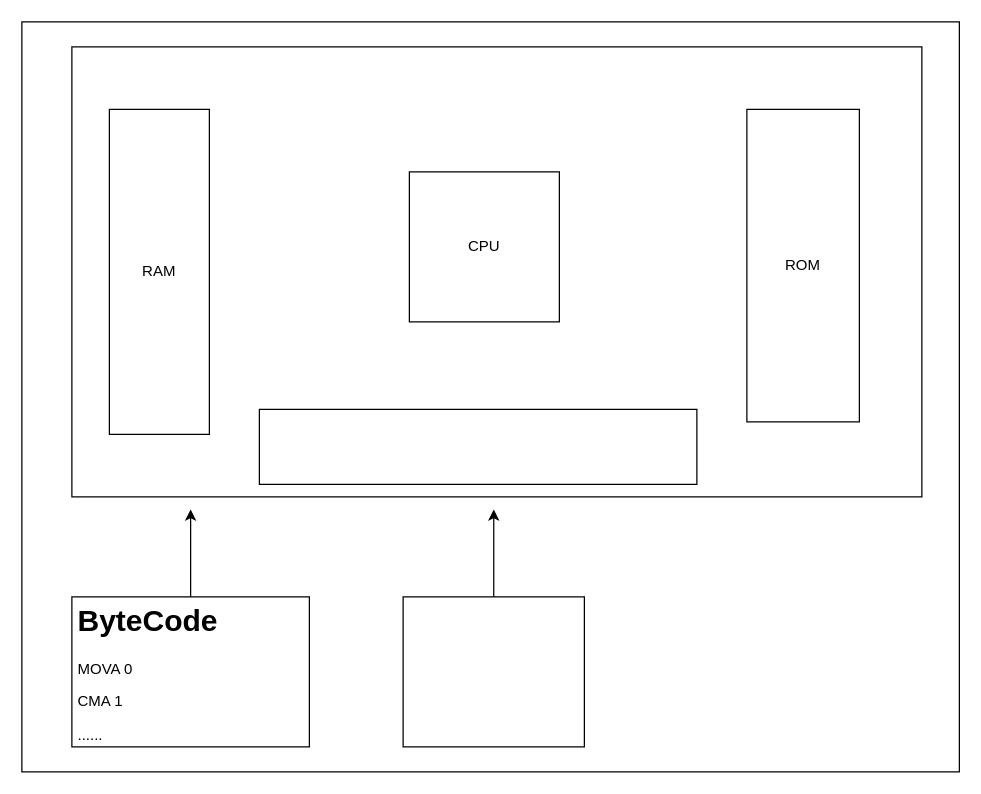
This 981x794 diagram has some shape labels left out. The box of each missing label's shape, as (x1, y1, x2, y2) in pixels:
EXTERNAL INTERFACE: (258, 408, 697, 484)
IO Device: (402, 596, 584, 747)
